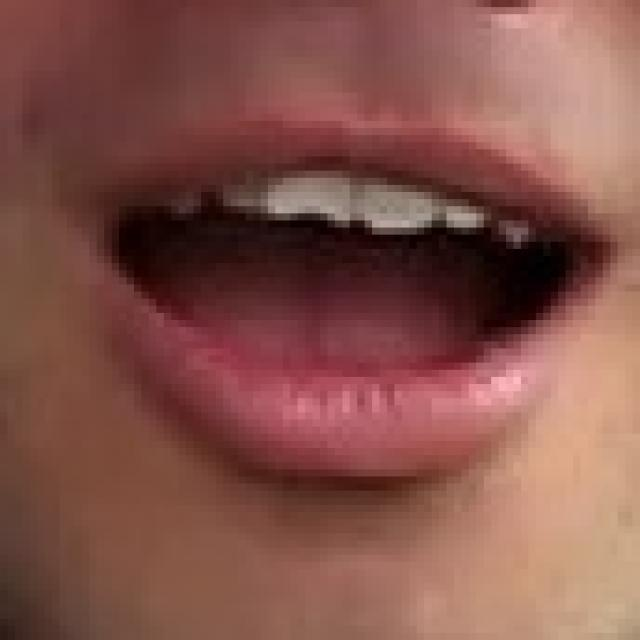open-mouth: (82, 106, 618, 484)
